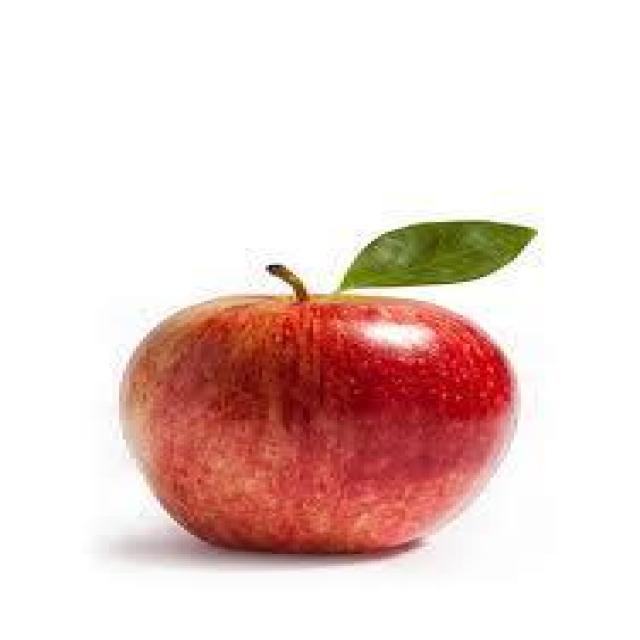maca: (80, 254, 522, 555)
